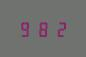eight: (35, 20, 50, 37)
nine: (18, 20, 33, 37)
two: (51, 20, 66, 37)
